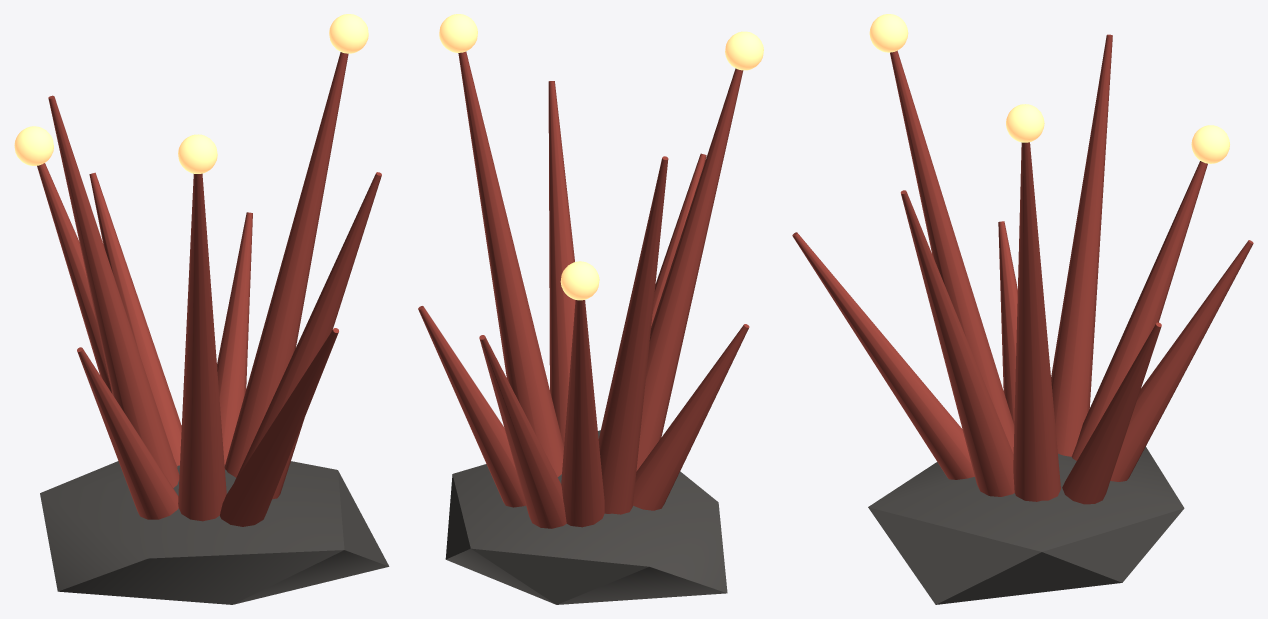
File: prop_plant.glb
The picture shows the model from 3 angles, left to right: view 1: azimuth 30°, elevation 25°; view 2: azimuth 150°, elevation 25°; view 3: azimuth 270°, elevation 25°; orthographic projection. The views are drawn at different scales.
Parts seen in each view (by area): view 1: prop_plant; view 2: prop_plant; view 3: prop_plant.
Part boxes in pixels (<box>): prop_plant: <box>14,14,389,604</box>; prop_plant: <box>418,14,763,604</box>; prop_plant: <box>792,14,1253,604</box>.
Bounding box in the file's own units: 0.436 × 0.7431 × 0.5953.
